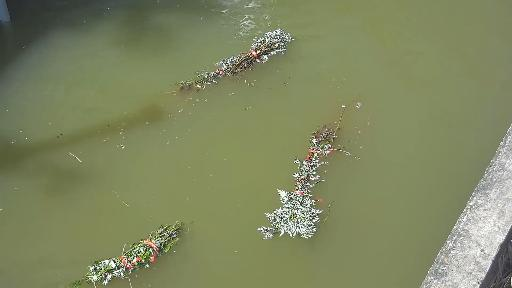twig: (258, 96, 354, 241), (62, 216, 192, 288), (167, 27, 291, 98)
